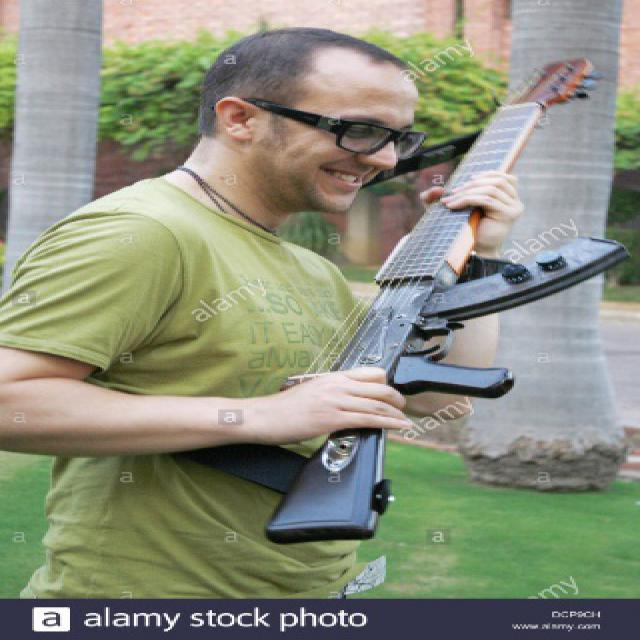long weapon: (268, 48, 632, 566)
